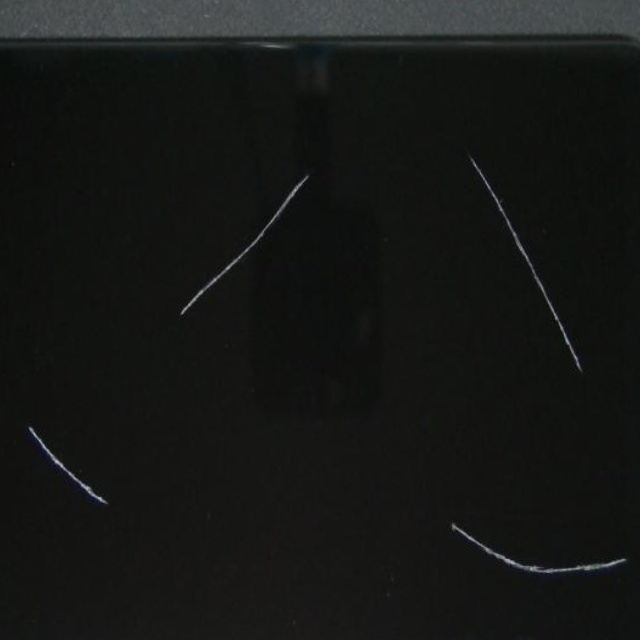scratch: (168, 0, 640, 321), (263, 295, 640, 640), (184, 0, 424, 319), (61, 267, 171, 640)
